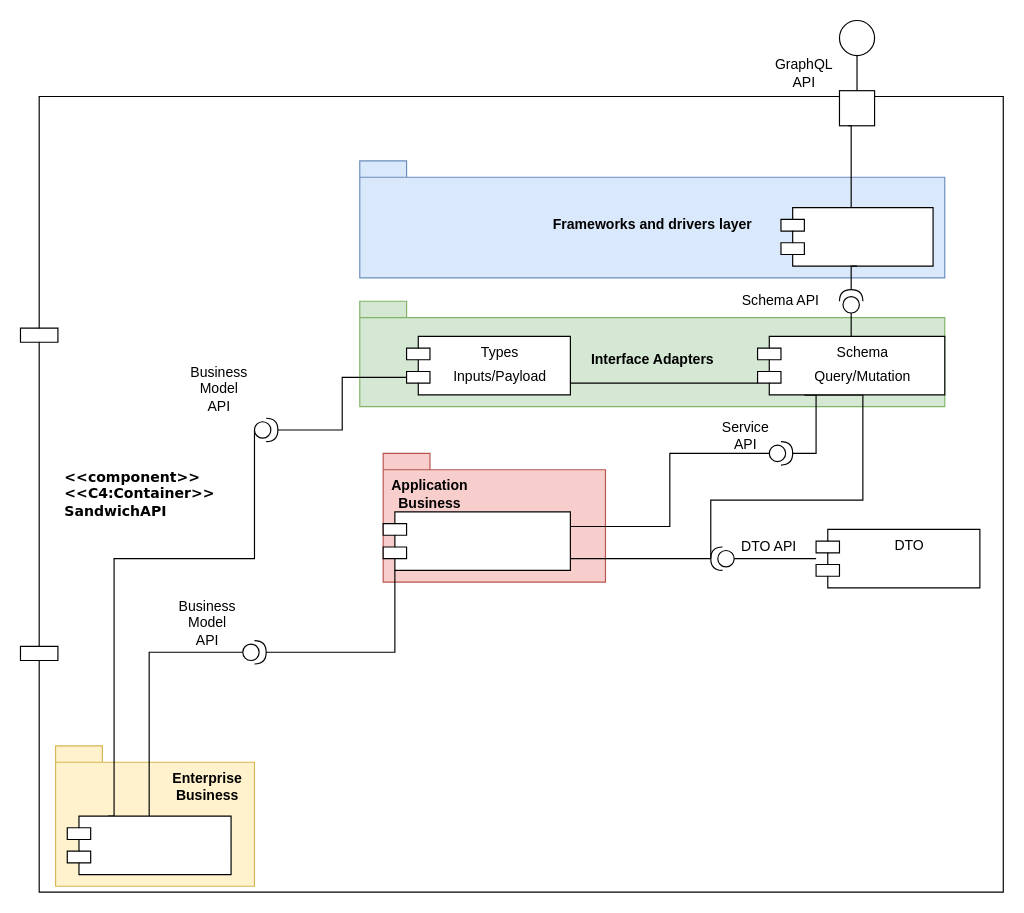
Some shapes in this 1024 by 913 pixel diagram are drawn without their labels. The shapes that lost their labels are listed below. From the top down, each one's centre as x and y in pixels, then its label:
At (856,236): "Request Pipeline".
At (476,540): "Data Access(DB Context)".
At (148,845): "Domain Model".
